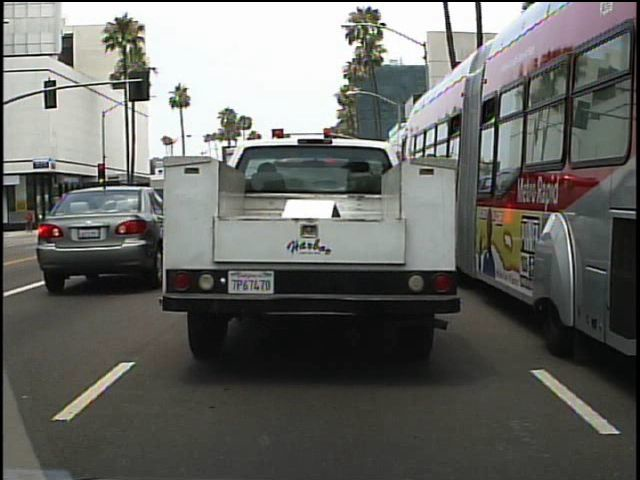person: (26, 207, 34, 235)
